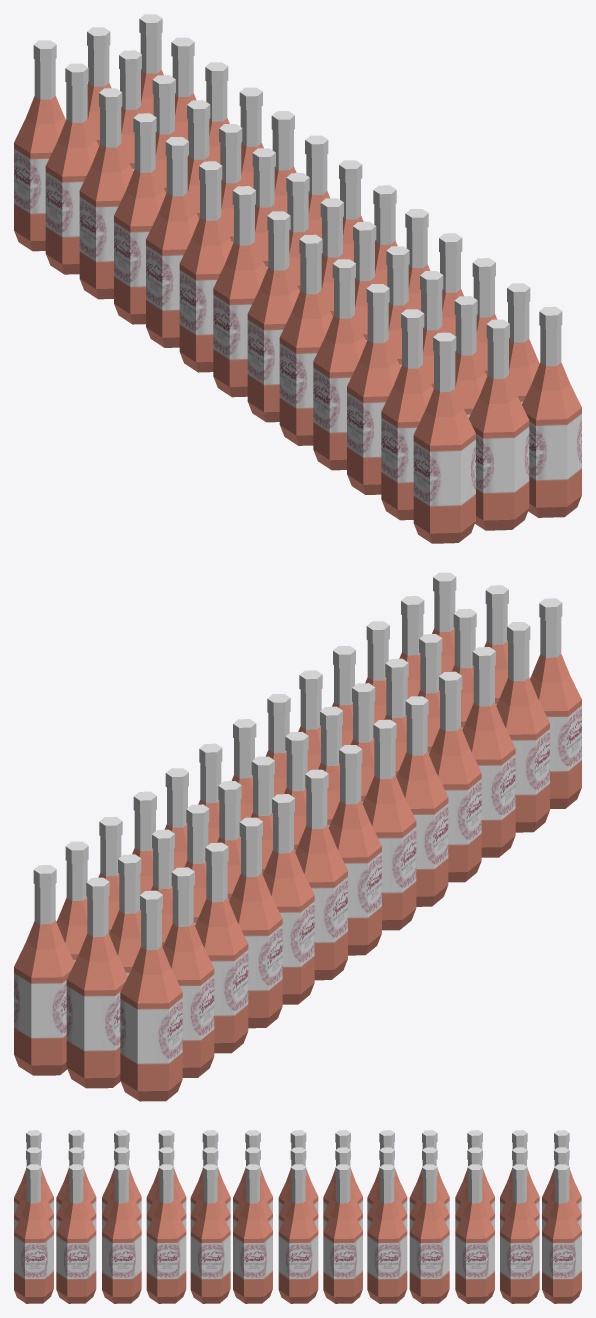
File: wine2pile.fbx
The picture shows the model from 3 angles, top to bottom: view 1: azimuth 30°, elevation 25°; view 2: azimuth 150°, elevation 25°; view 3: azimuth 270°, elevation 25°; orthographic projection. The views are drawn at different scales.
Parts seen in each view (by area): view 1: WineBottle.025; view 2: WineBottle.025; view 3: WineBottle.025.
Part boxes in pixels (x1,y1,x2,y2): WineBottle.025: (14, 14, 581, 543); WineBottle.025: (14, 572, 581, 1101); WineBottle.025: (14, 1130, 581, 1303).
Bounding box in the file's own units: 72.08 × 87.62 × 347.
